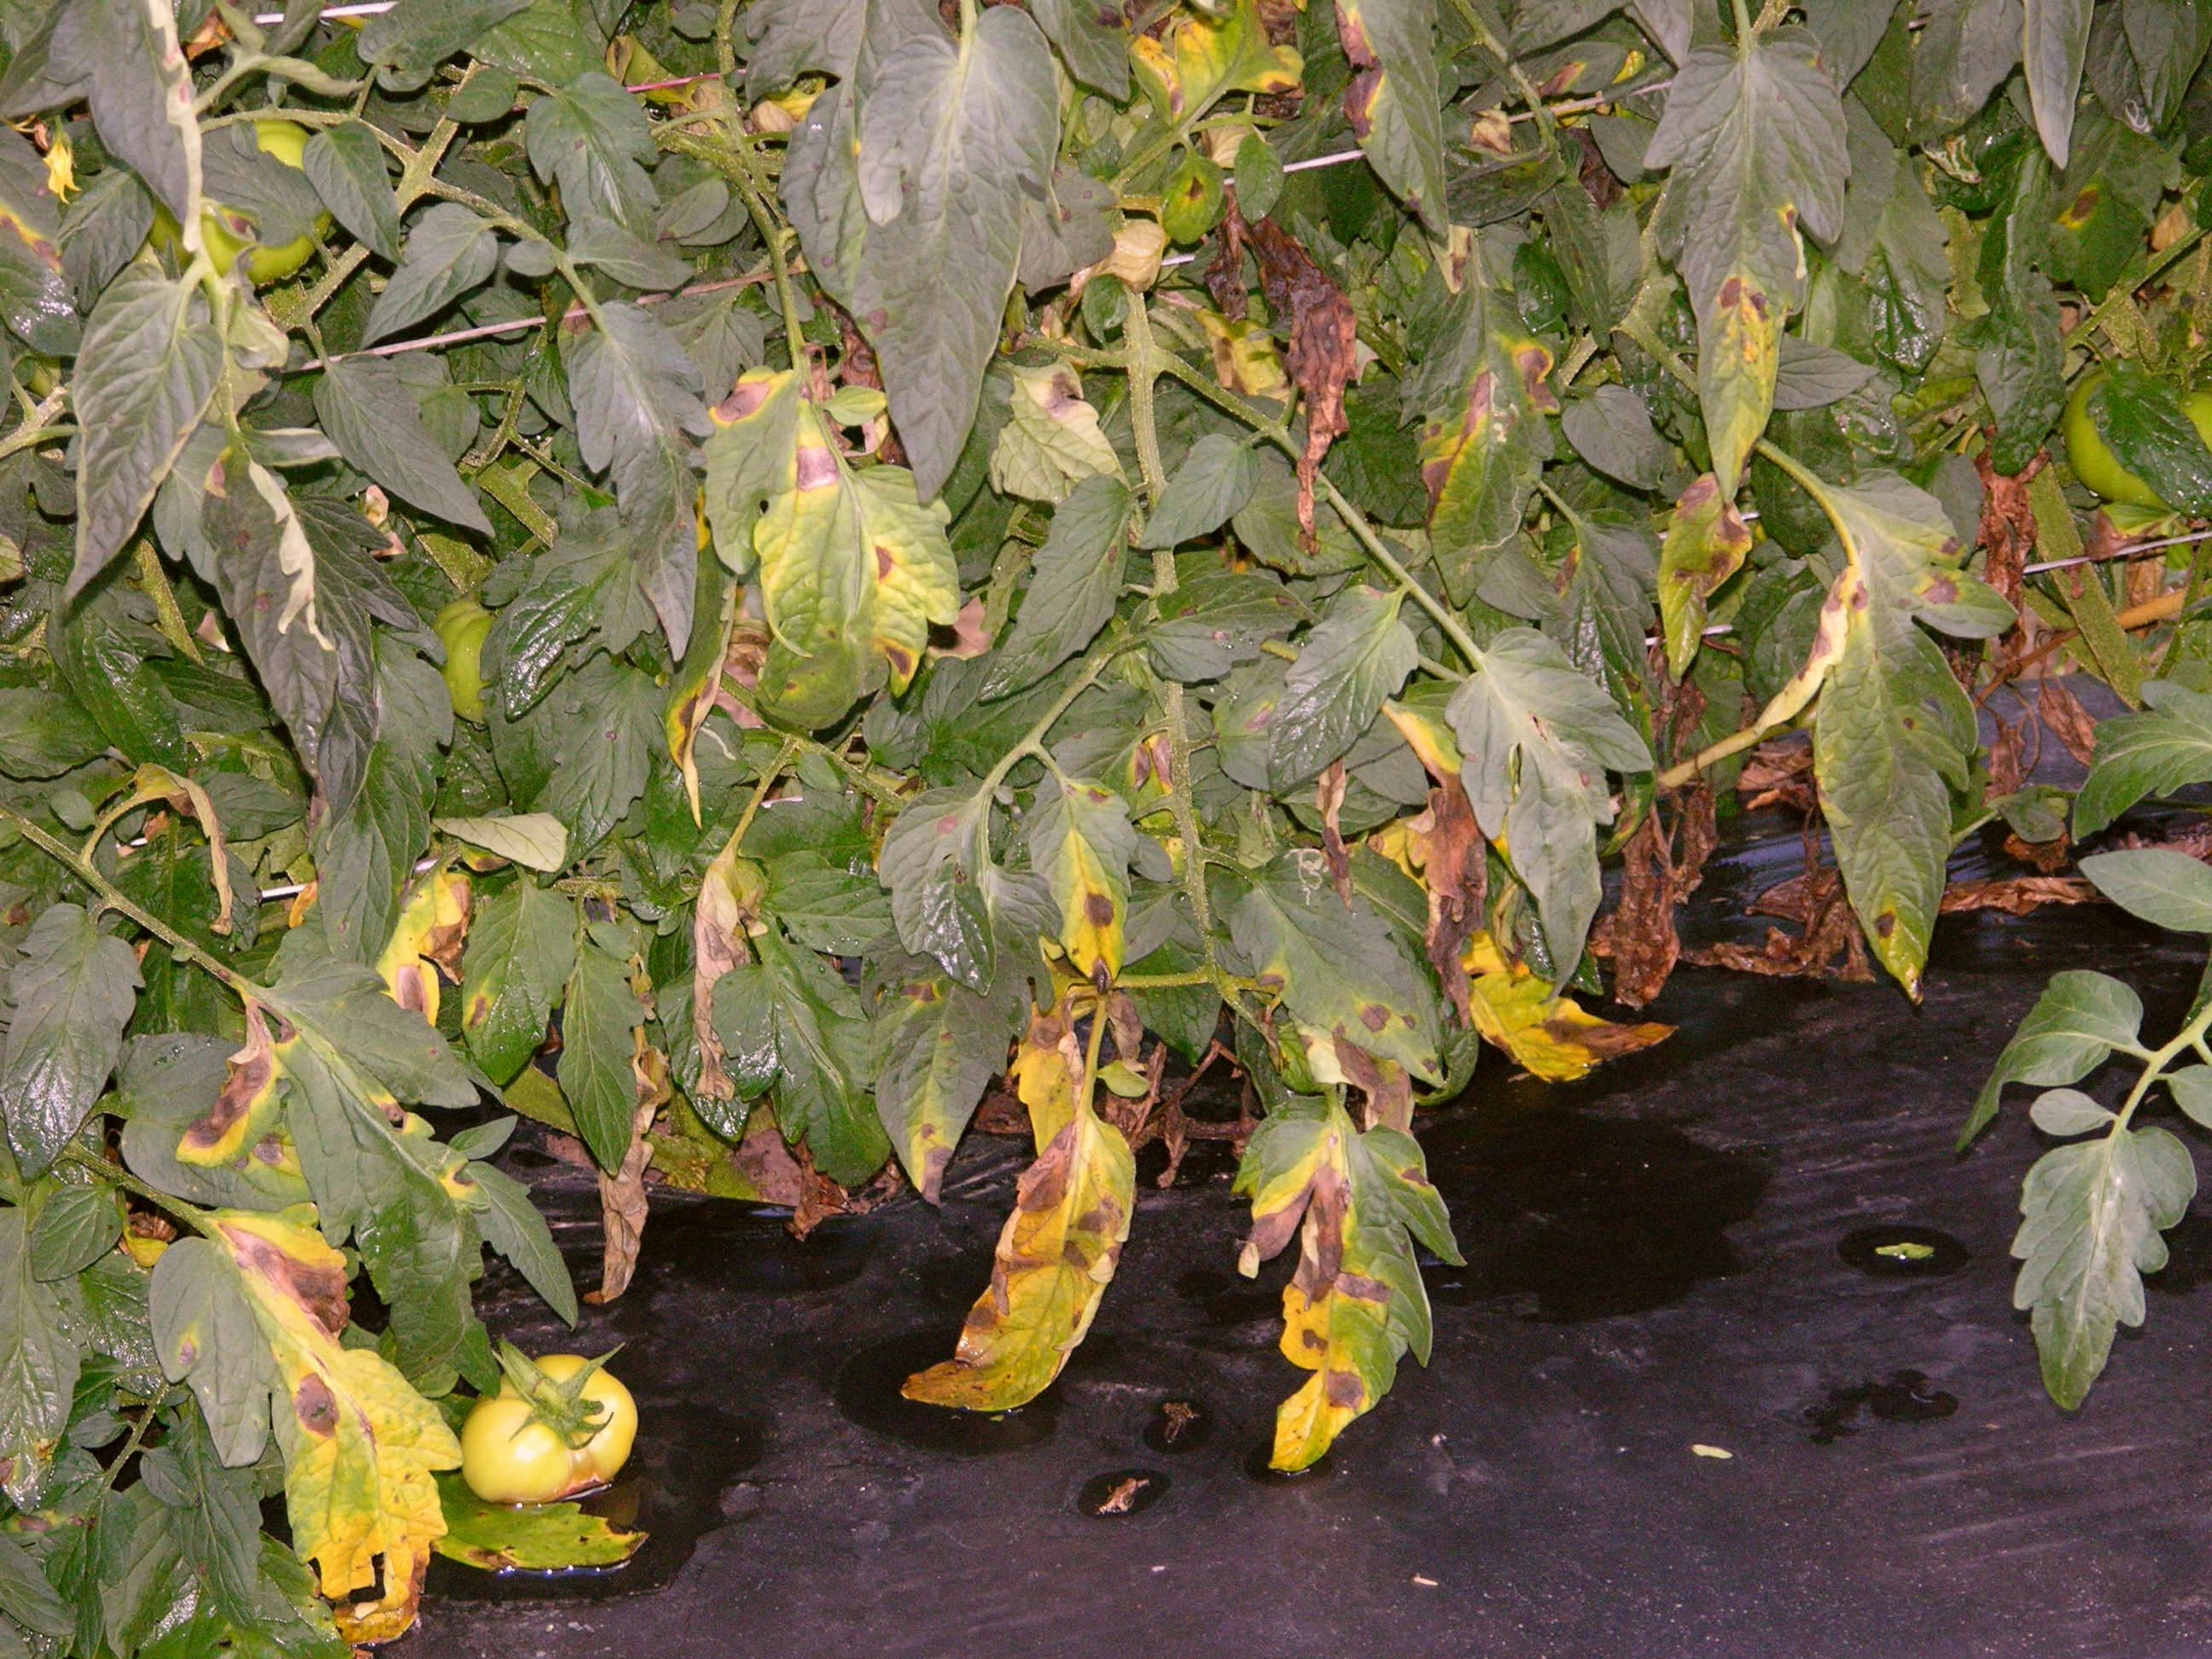Tomato leaf: (138, 1182, 432, 1615), (1792, 423, 2005, 1007), (1611, 2, 1862, 493), (899, 1066, 1165, 1504), (1226, 1101, 1435, 1504), (1386, 235, 1550, 608), (1987, 1115, 2195, 1408), (738, 477, 963, 714), (66, 263, 211, 589), (974, 479, 1151, 711), (1103, 30, 1305, 232), (441, 871, 597, 1124), (0, 906, 141, 1187), (597, 308, 704, 680), (1256, 579, 1421, 807), (334, 362, 491, 533), (1021, 749, 1129, 995), (1642, 469, 1768, 664), (343, 216, 507, 357)
